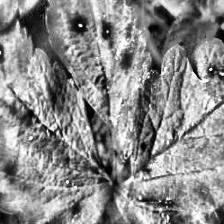Leaf Spot: (0, 16, 114, 224), (107, 36, 224, 224), (46, 0, 156, 181), (0, 0, 56, 38)
